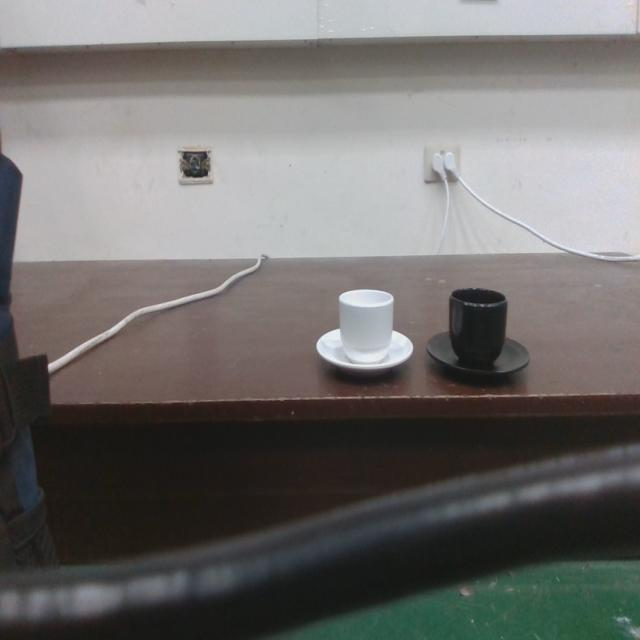black: (424, 284, 531, 382)
white: (314, 286, 415, 378)
